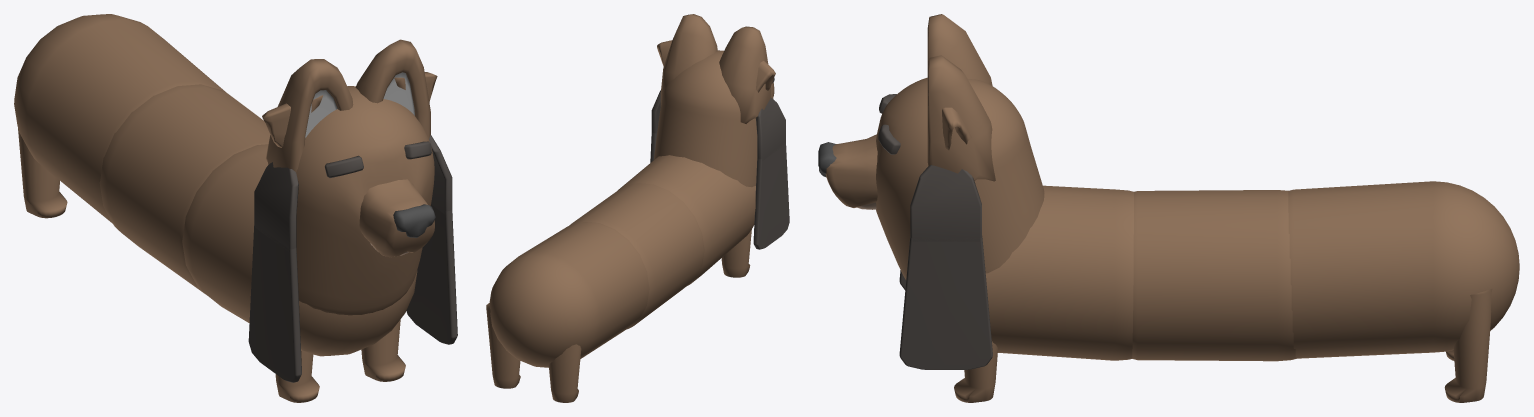
Rendered from SnausageDog_All.fbx.
3 renders of one model, left to right at view 1: azimuth 30°, elevation 25°; view 2: azimuth 150°, elevation 25°; view 3: azimuth 270°, elevation 25°, orthographic. The views are drawn at different scales.
Parts seen in each view (by area): view 1: Base, Booti, Body_2, Body_1, pCube4 (×2), polySurface5, polySurface6, Snoot, Left_Ear1_Floppy, BackLeg_L, FrontLeg_R, FrontLeg_L (+4 smaller); view 2: Booti, Base, Body_2, Body_1, polySurface5, pCube4, polySurface6, BackLeg_L, Left_Ear1_Floppy, Backleg_R, FrontLeg_L, LeftDorito (+1 smaller); view 3: Booti, Body_2, Body_1, Base, pCube4, polySurface6, Left_Ear_FLoppy, Backleg_R, Snoot, polySurface5, FrontLeg_R, RightDorito.
Boxes of the visible parts, box(x1,y1,x2,y2) form: Base: box(296, 86, 434, 315); Booti: box(14, 14, 226, 223); Body_2: box(99, 84, 270, 294); Body_1: box(182, 144, 417, 356); pCube4 (×2): box(248, 204, 457, 382); polySurface5: box(265, 59, 353, 171); polySurface6: box(355, 39, 430, 139); Snoot: box(359, 179, 434, 257); Left_Ear1_Floppy: box(254, 162, 298, 251); BackLeg_L: box(18, 128, 67, 218); FrontLeg_R: box(361, 319, 405, 381); FrontLeg_L: box(275, 349, 319, 402); Booti: box(489, 222, 649, 367); Base: box(654, 50, 773, 187); Body_2: box(568, 183, 704, 329); Body_1: box(618, 155, 755, 286); polySurface5: box(719, 26, 771, 123); pCube4: box(753, 142, 789, 249); polySurface6: box(660, 14, 717, 106); BackLeg_L: box(548, 344, 581, 402); Left_Ear1_Floppy: box(756, 98, 785, 160); Backleg_R: box(486, 303, 520, 388); FrontLeg_L: box(721, 229, 751, 277); LeftDorito: box(756, 61, 775, 92); Booti: box(1288, 181, 1519, 358); Body_2: box(1132, 190, 1297, 361); Body_1: box(985, 185, 1133, 360); Base: box(876, 77, 1044, 279); pCube4: box(899, 236, 992, 369); polySurface6: box(927, 55, 995, 181); Left_Ear_FLoppy: box(910, 165, 981, 241); Backleg_R: box(1444, 289, 1492, 402); Snoot: box(825, 134, 877, 207); polySurface5: box(927, 14, 992, 85); FrontLeg_R: box(954, 341, 997, 402); RightDorito: box(942, 107, 971, 150).
Size of the model in its own units: 49.13 by 93.98 by 176.
